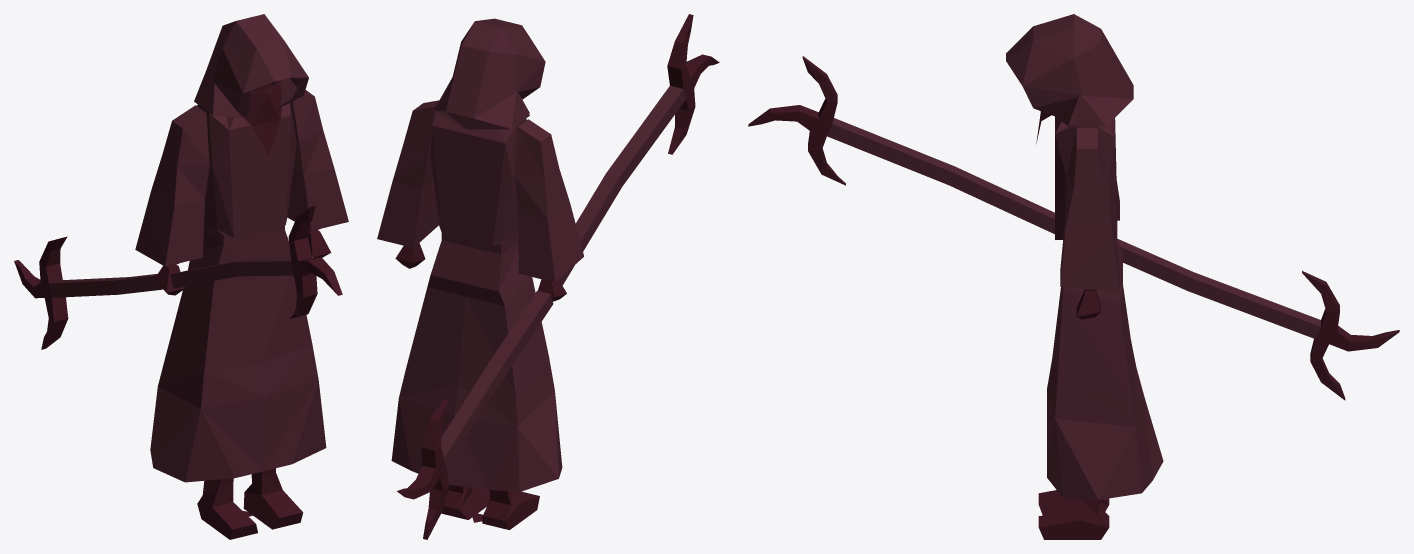
File: ahrim.obj
The picture shows the model from 3 angles, left to right: view 1: azimuth 30°, elevation 25°; view 2: azimuth 150°, elevation 25°; view 3: azimuth 270°, elevation 25°; orthographic projection. The views are drawn at different scales.
Size of the model in its own units: 78 by 204 by 240.
